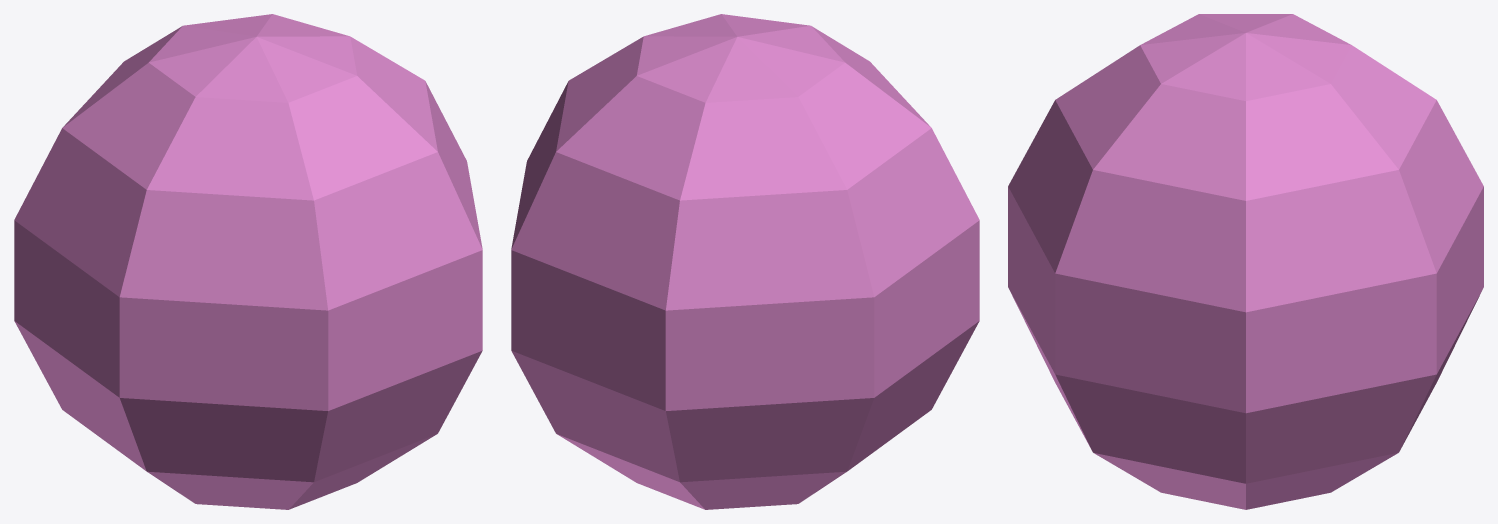
The model's file is Guard.fbx.
3 views of the same model, side by side, from view 1: azimuth 30°, elevation 25°; view 2: azimuth 150°, elevation 25°; view 3: azimuth 270°, elevation 25° (orthographic).
Visible parts, largest first — view 1: pSphere2; view 2: pSphere2; view 3: pSphere2.
Boxes of the visible parts, box(x1,y1,x2,y2) form: pSphere2: box(14, 14, 482, 509); pSphere2: box(511, 14, 979, 509); pSphere2: box(1008, 14, 1483, 509).
Bounding box in the file's own units: 1.85 × 2 × 1.9.
